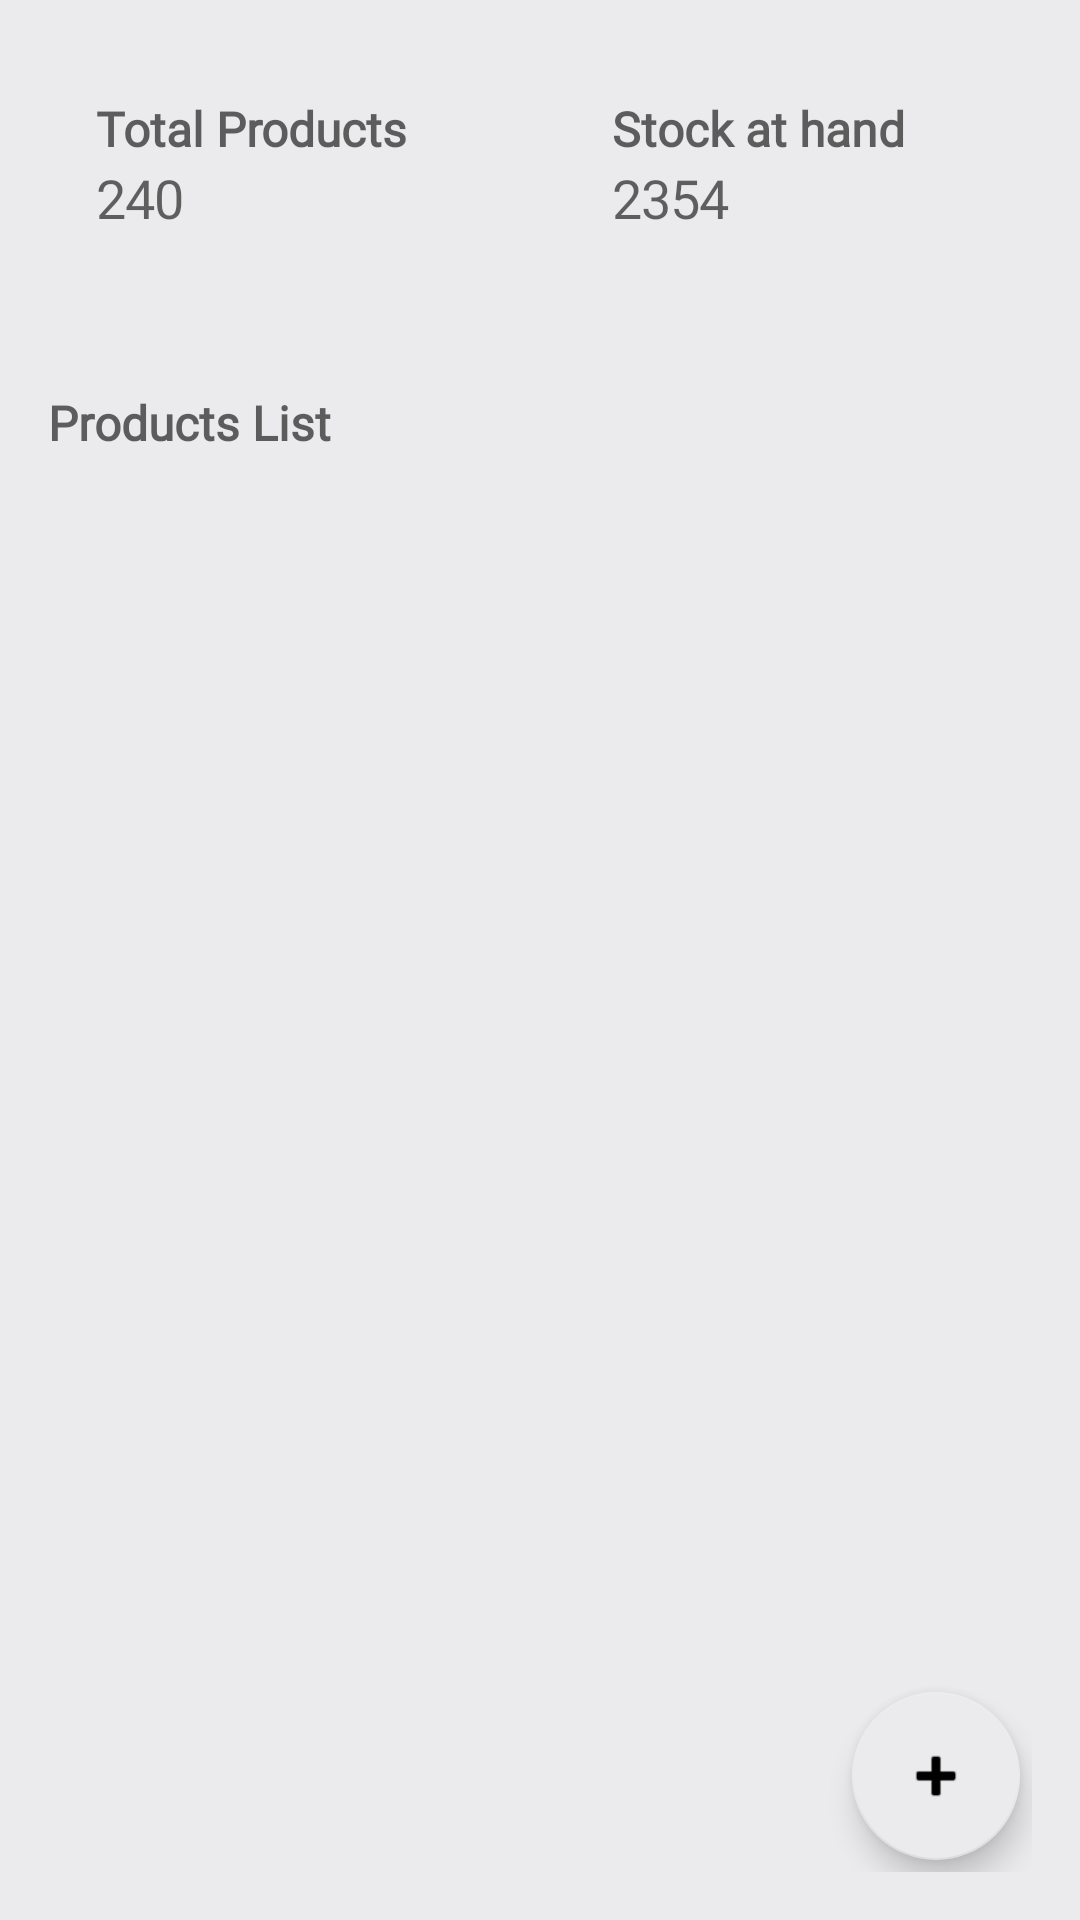

Named icons in this screenshot (1080×1920) and their centers, [x,y]:
add: [939,1808]
